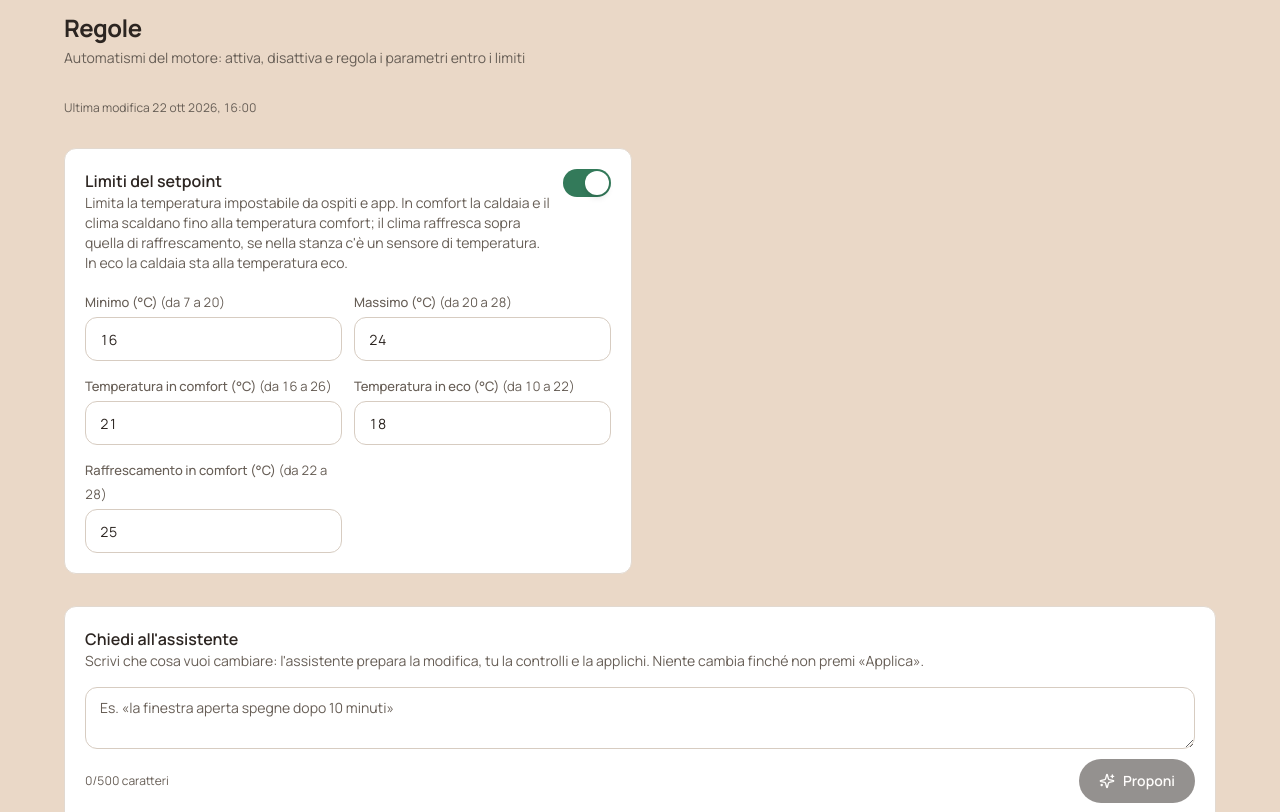
Test: Regole: le temperature delle modalità (lotto 30) › prima del salvataggio, comfort_celsius a 25: «La temperatura di raffrescamento deve essere più alta di quella comfort», e niente salvataggio
This screenshot has width=1280, height=812.
Expected: the element with test id "rule-card-setpoint_limits" is shown, x1=64 y1=148 x2=632 y2=574
Replace the text in the number field with test id "rule-param-setpoint_limits-comfort_celsius" with "25" at point(214, 423), box x1=85 y1=401 x2=342 y2=445
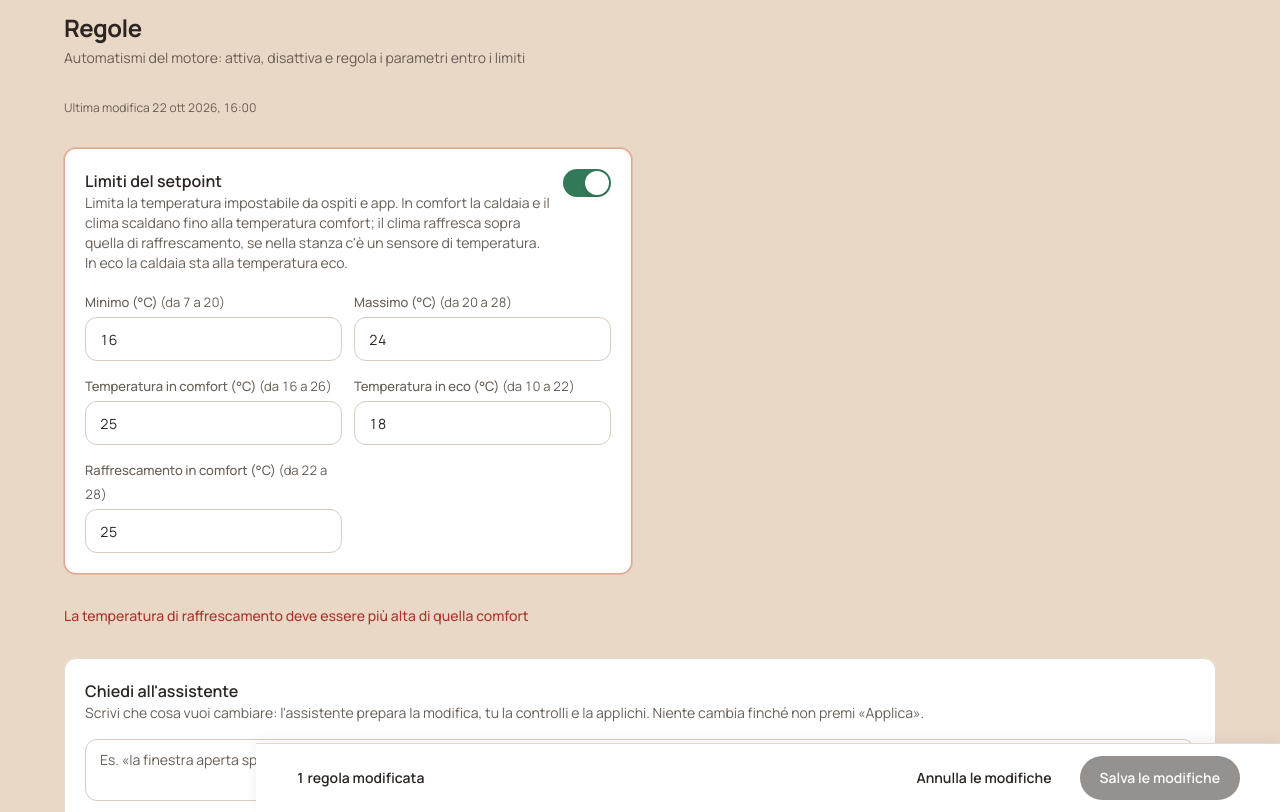
Now the text with test id "rules-range-error" reads "La temperatura di raffrescamento deve essere più alta di quella comfort", box x1=64 y1=606 x2=528 y2=625
Now the button with test id "rules-save-btn" is disabled, box x1=1080 y1=756 x2=1240 y2=800
